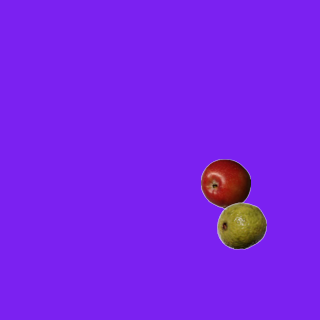Apple Braeburn: (200, 158, 250, 208)
Guava: (216, 200, 266, 250)
